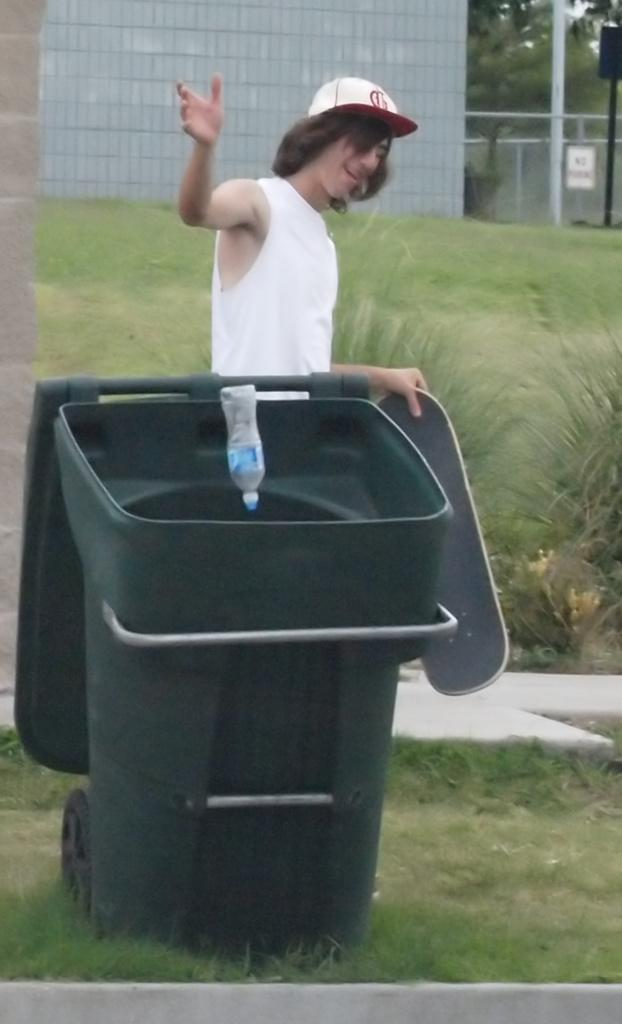Hat: (308, 80, 418, 146)
